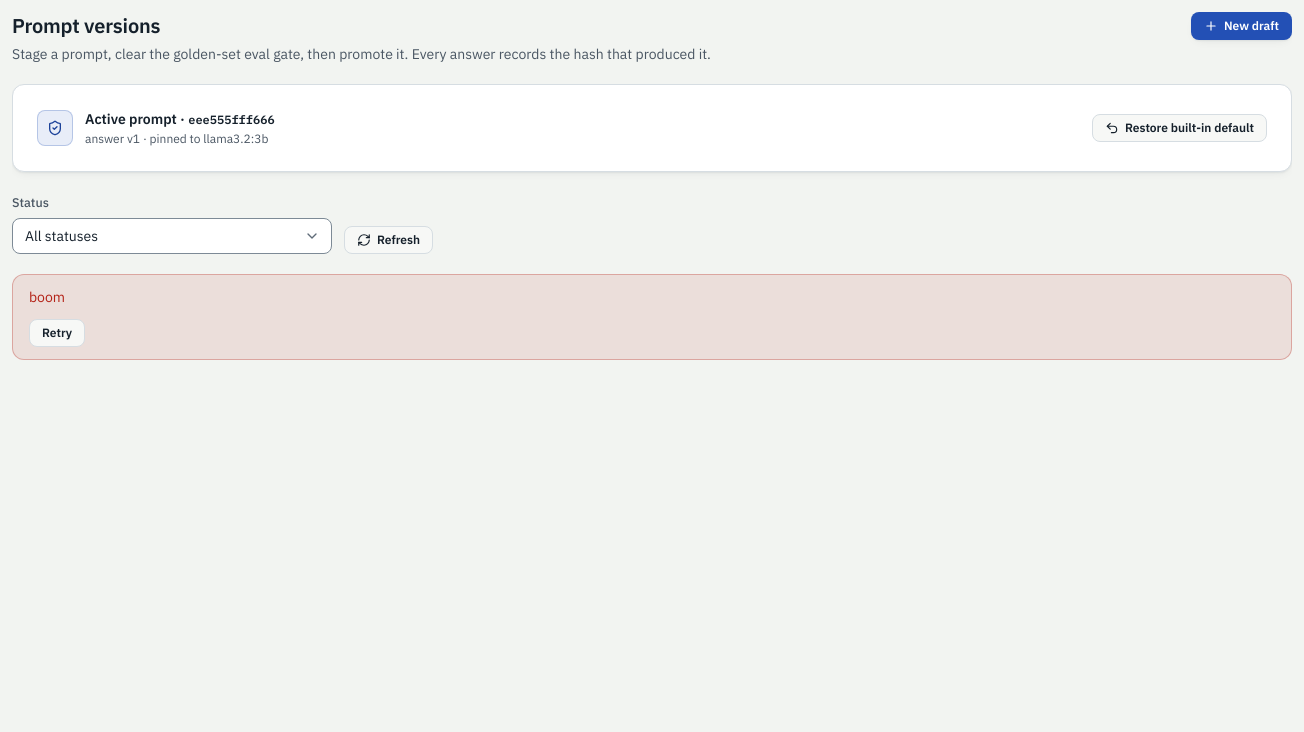
Scenario: AdminPromptsPage › renders an error state with a retry when the list fails
The image size is (1304, 732).
expect the message shows "boom": met, box top-left (29, 288), bottom-right (65, 306)
Step 1. Click the button "Retry" → (57, 333), box top-left (29, 319), bottom-right (85, 347)
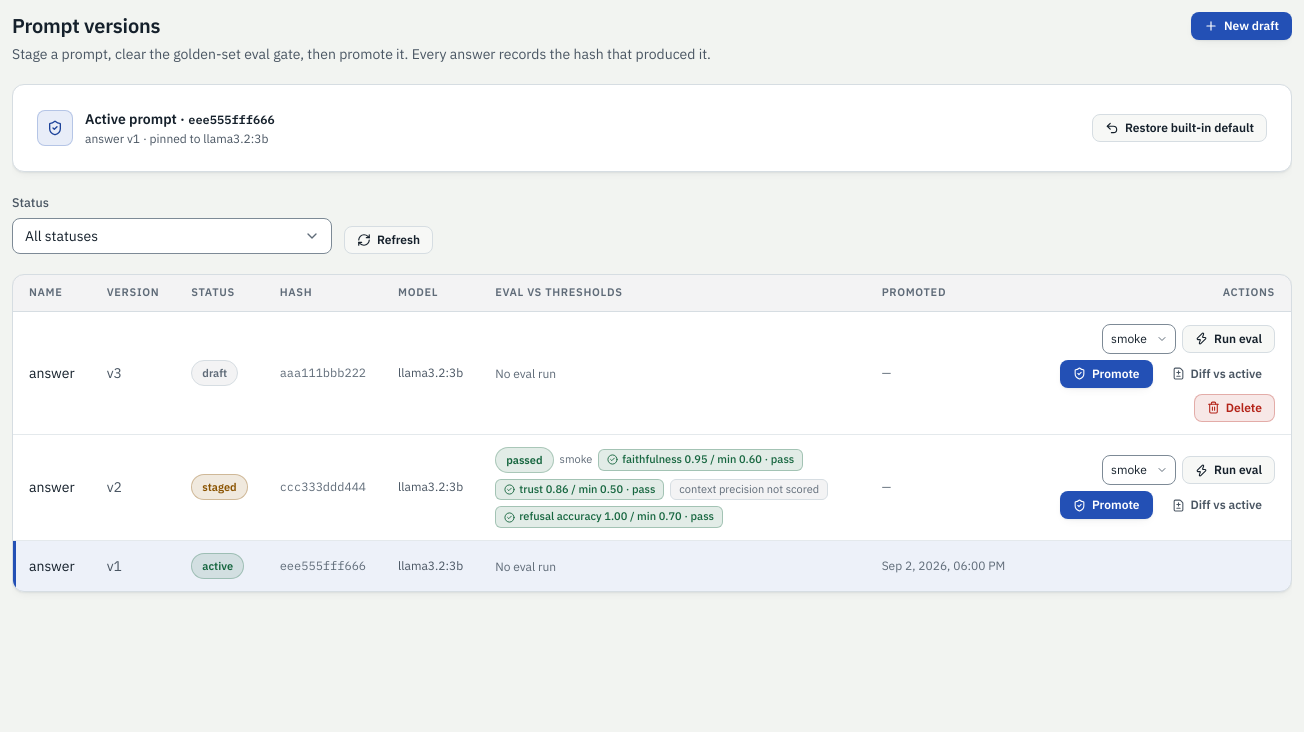
expect the row "answer v3" is shown: met, box top-left (13, 311), bottom-right (1291, 434)
